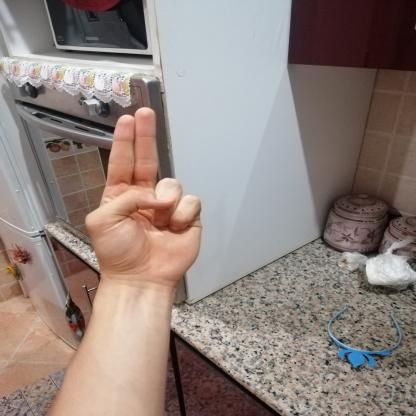TA: (68, 98, 220, 294)
